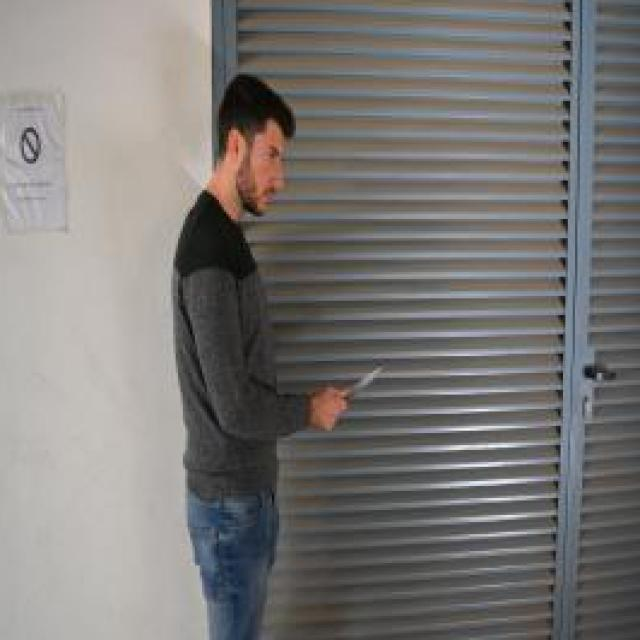knife: (330, 363, 390, 414)
